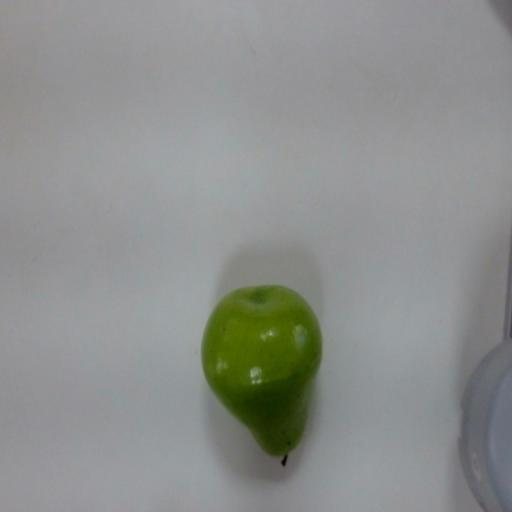Unripe: (201, 266, 326, 484)
